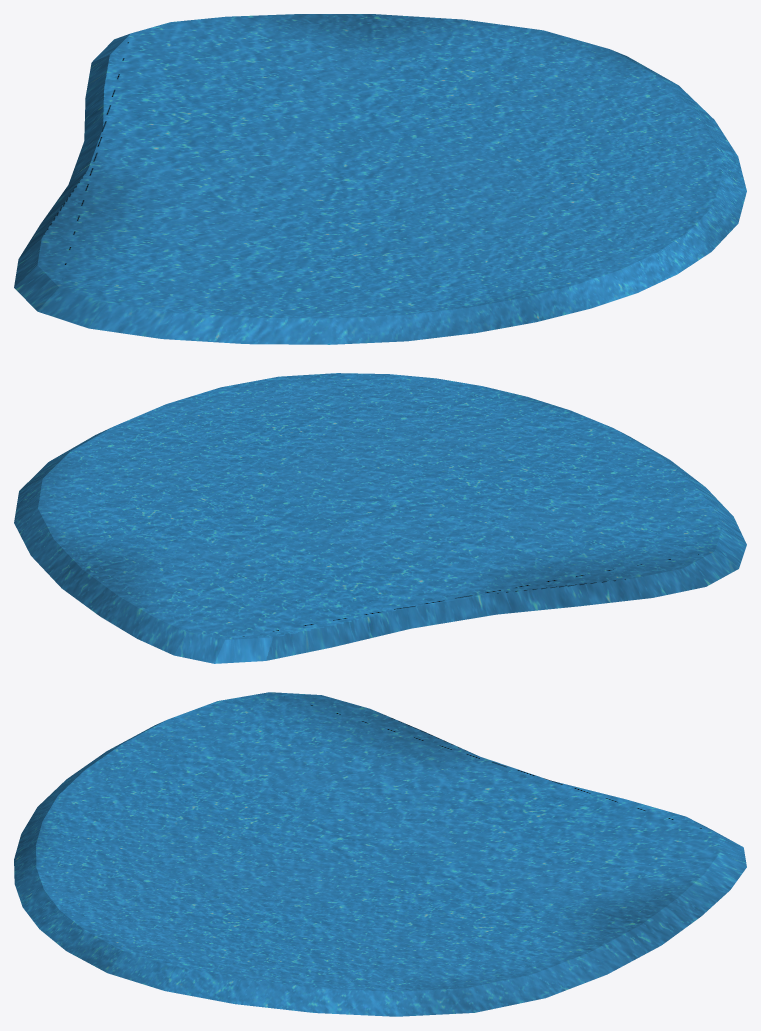
Rendered from lake by MK.fbx.
3 views of the same model, one above another, from view 1: azimuth 30°, elevation 25°; view 2: azimuth 150°, elevation 25°; view 3: azimuth 270°, elevation 25° (orthographic). The views are drawn at different scales.
Parts seen in each view (by area): view 1: Circle; view 2: Circle; view 3: Circle.
Boxes of the visible parts, x1,y1,x2,y2 form: Circle: [14, 14, 746, 344]; Circle: [14, 373, 746, 663]; Circle: [14, 692, 746, 1016].
Bounding box in the file's own units: 404 × 8.65 × 390.
